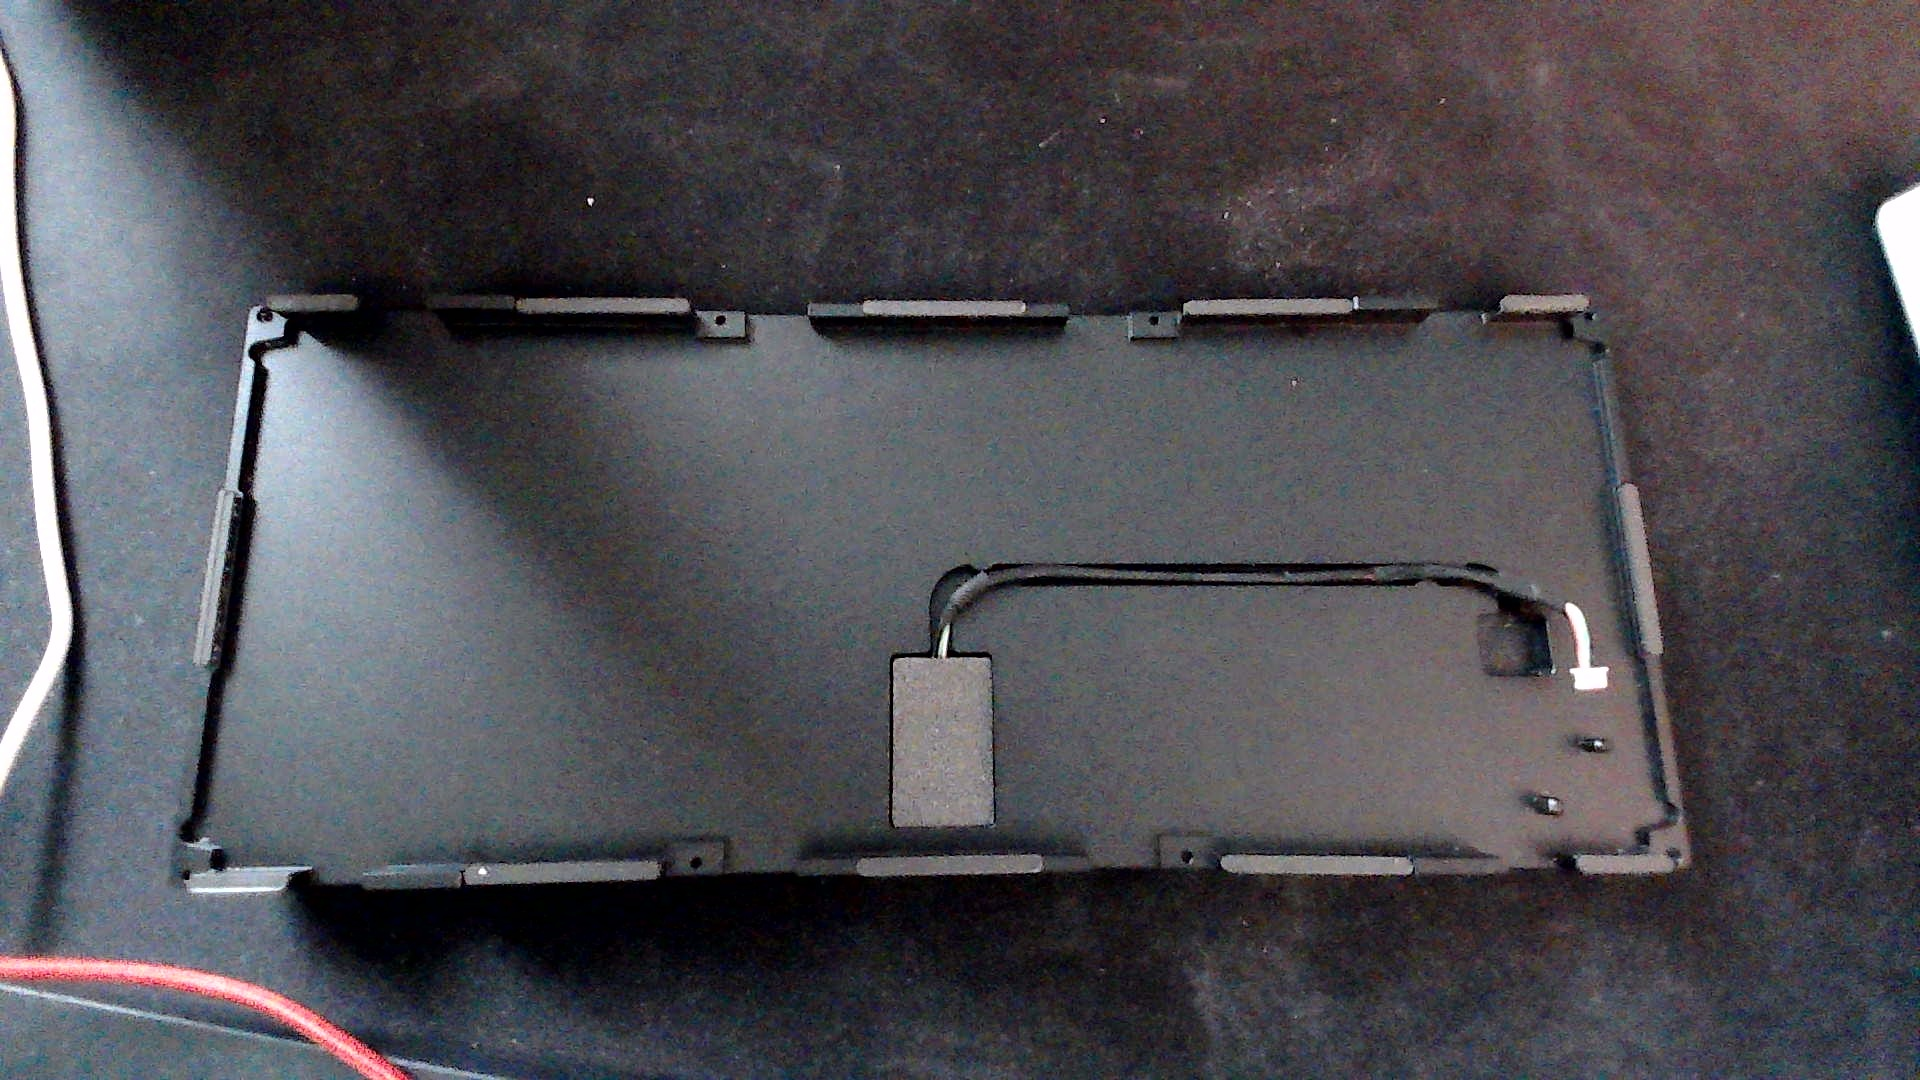case: (141, 256, 1709, 920)
